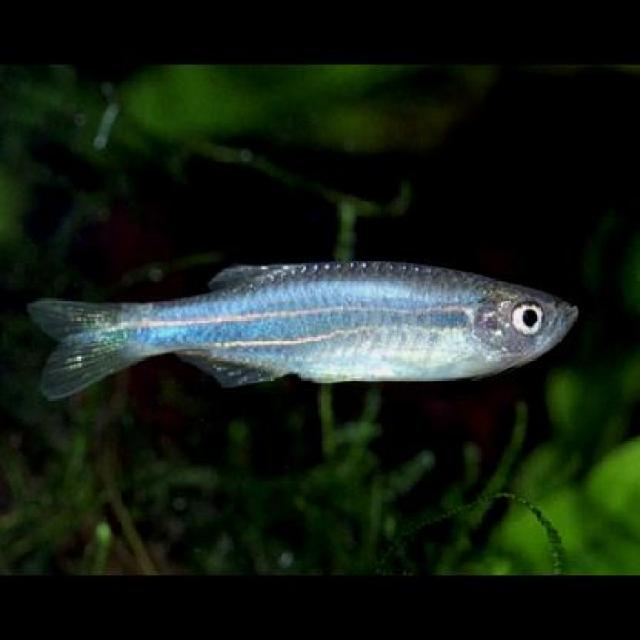ZebraFish: (30, 256, 573, 384)
